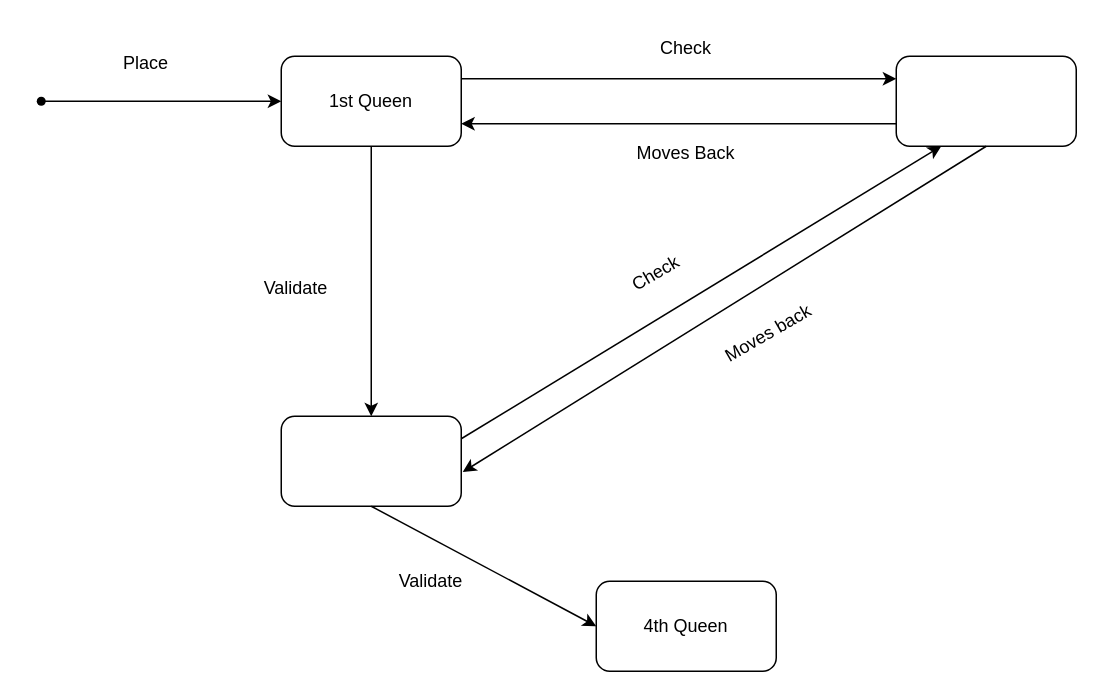
This 1103x698 diagram has some shape labels left out. Each missing label, with the centre of its shape:
"2nd Queen" goes at point 985,100.
"3rd Queen" goes at point 370,460.
